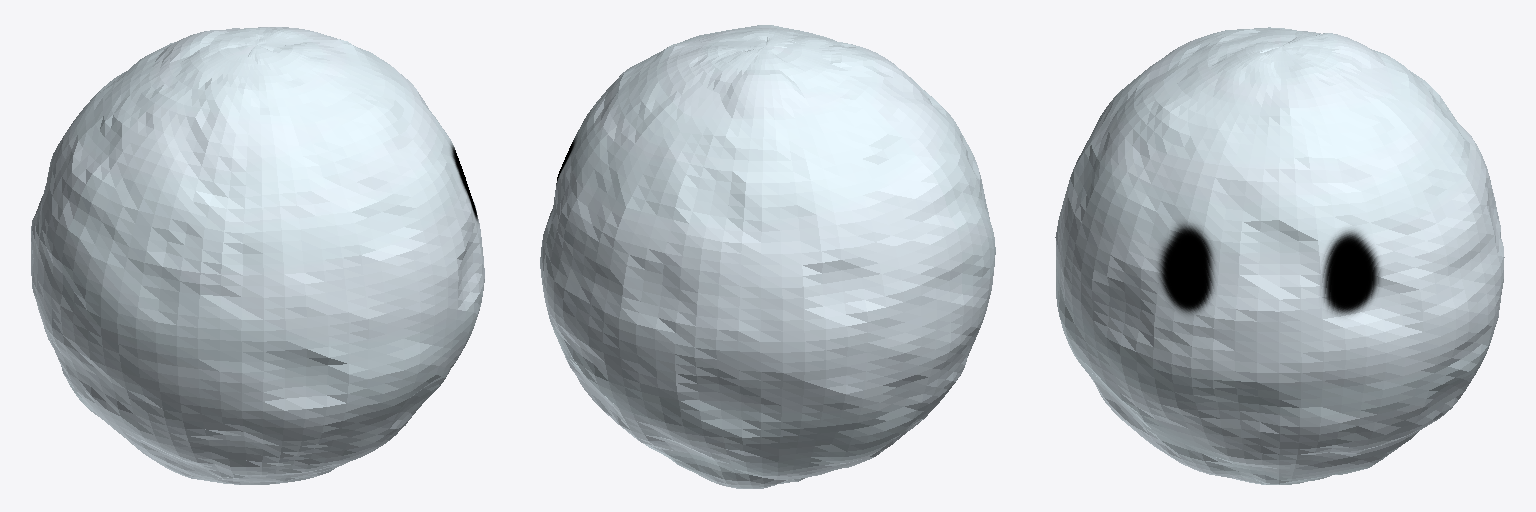
The picture shows the model from 3 angles: view 1: azimuth 30°, elevation 25°; view 2: azimuth 150°, elevation 25°; view 3: azimuth 270°, elevation 25°; orthographic projection.
Visible parts, largest first — view 1: 球; view 2: 球; view 3: 球.
Part boxes in pixels (left/top/right/bottom): 球: left=31, top=27, right=484, bottom=484; 球: left=540, top=25, right=995, bottom=488; 球: left=1055, top=27, right=1504, bottom=484.
Size of the model in its own units: 1.99 by 2.04 by 1.98.
1 materials, 1 textured.